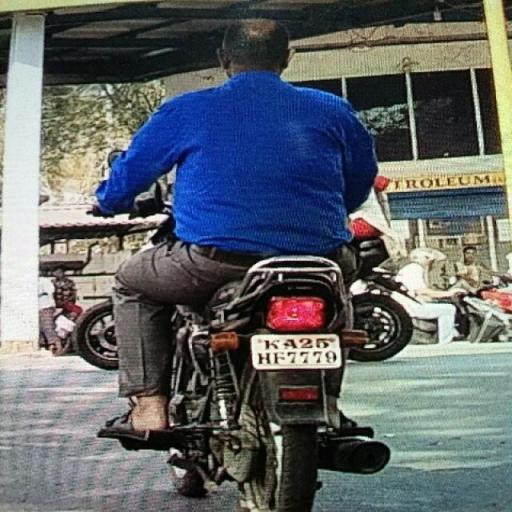bike: (81, 9, 416, 512)
numberplate: (251, 332, 342, 370)
withouthelmet: (221, 16, 290, 74)
